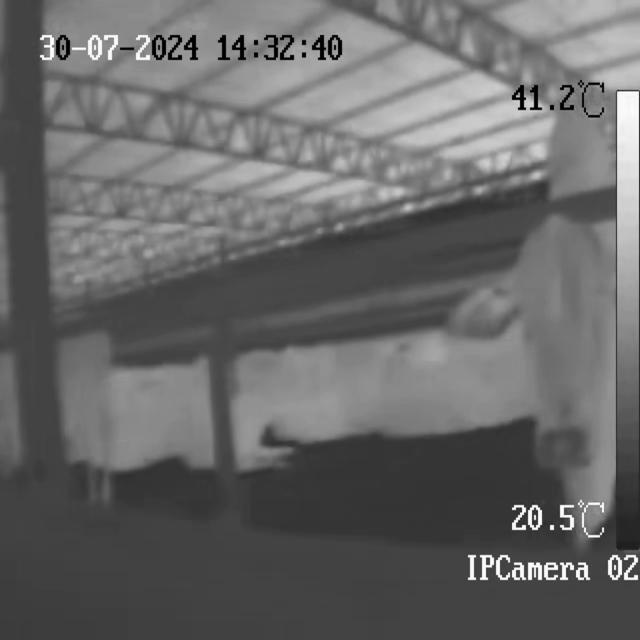head: (516, 213, 612, 472)
